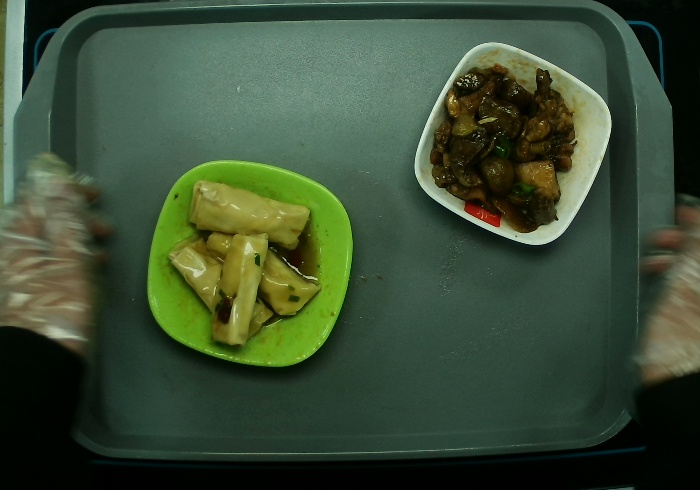SHKJ-Bai_Se_Xiao_Fang_Die: (411, 39, 613, 250)
SHKJ-Lv_Se_Cai_Die: (142, 158, 354, 373)
